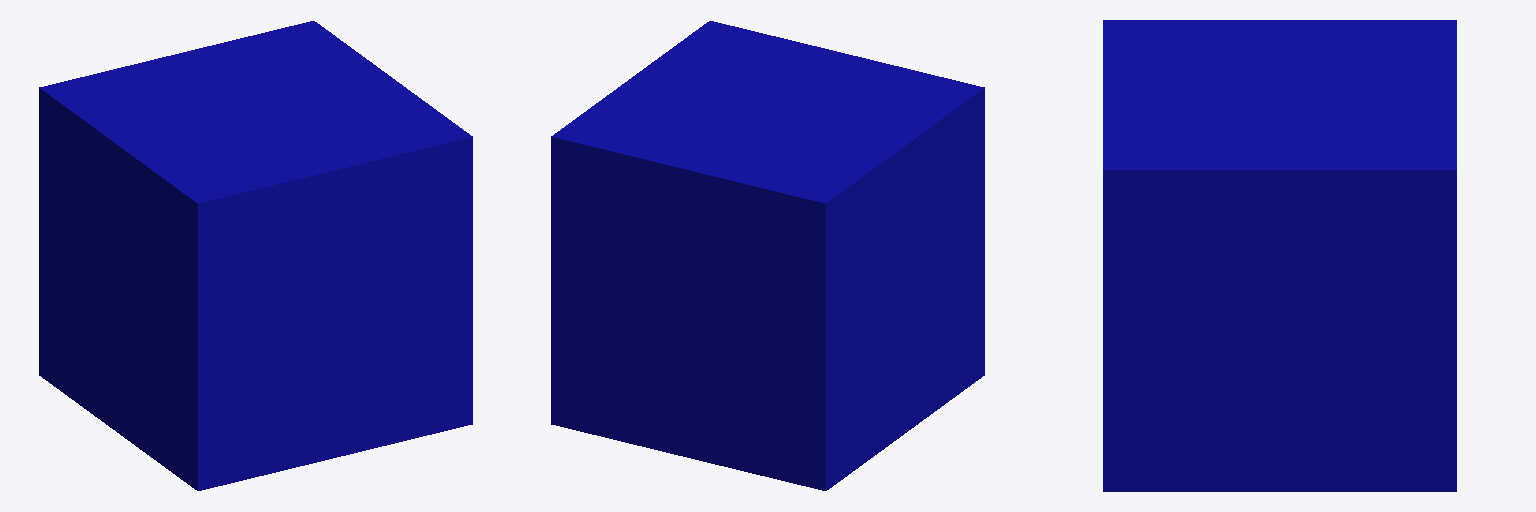
URDF robot description (block_2):
<?xml version="1.0"?>
<robot name="block_2">
  <link name="block_2_base_link">
    <contact>
      <lateral_friction value="1.0"/>
      <spinning_friction value=".001"/>
    </contact>
    <inertial>
      <origin rpy="0 0 0" xyz="0 0 0"/>
      <mass value="0.02"/>
      <inertia ixx="1" ixy="0" ixz="0" iyy="1" iyz="0" izz="1"/>
    </inertial>
    <visual>
      <origin rpy="0 0 0" xyz="0.0 0.0 0.0"/>
      <geometry>
        <box size="0.06 0.06 0.06"/>
      </geometry>
      <material name="blockmat">
        <color rgba="0.1 0.1 0.7 1"/>
      </material>
    </visual>
    <collision>
      <origin rpy="0 0 0" xyz="0.0 0.0 0.0"/>
      <geometry>
        <box size="0.06 0.06 0.06"/>
      </geometry>
    </collision>
  </link>
</robot>

--- Facts derived from the render (not from the file) ---
Views: 3 orthographic renders of the robot side by side, from view 1: azimuth 30°, elevation 25°; view 2: azimuth 150°, elevation 25°; view 3: azimuth 270°, elevation 25°.
Robot: block_2 — 1 links, 0 joints (none); root link block_2_base_link; default pose: all joints at 0.
Visible links, largest first — view 1: block_2_base_link; view 2: block_2_base_link; view 3: block_2_base_link.
Boxes of the visible links, <box> form: block_2_base_link: <box>39,21,472,490</box>; block_2_base_link: <box>551,21,984,490</box>; block_2_base_link: <box>1103,20,1456,491</box>.
Size in the robot's own frame: 0.06 by 0.06 by 0.06 metres.
Geometry: primitives only (box / cylinder / sphere), no mesh files.